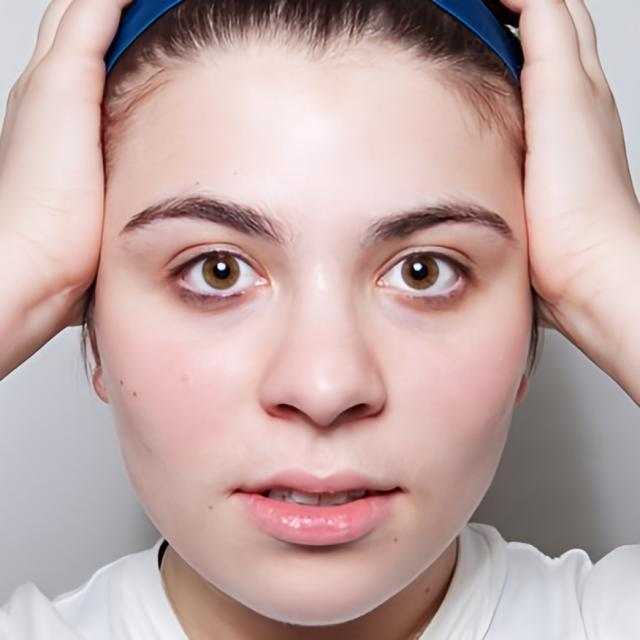surprise: (92, 0, 532, 627)
